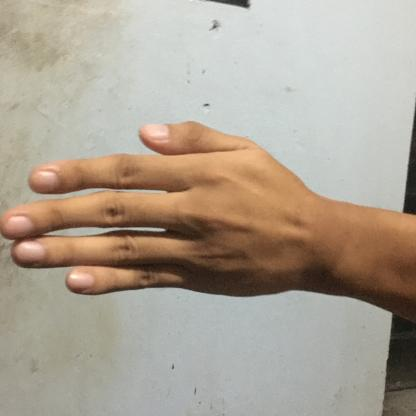ready: (1, 108, 416, 326)
